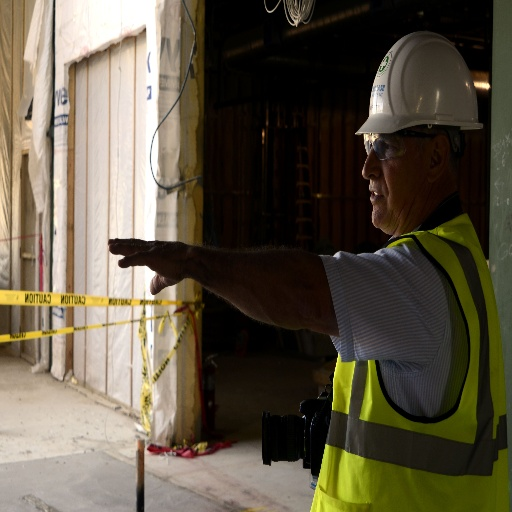hand: (95, 228, 231, 303)
